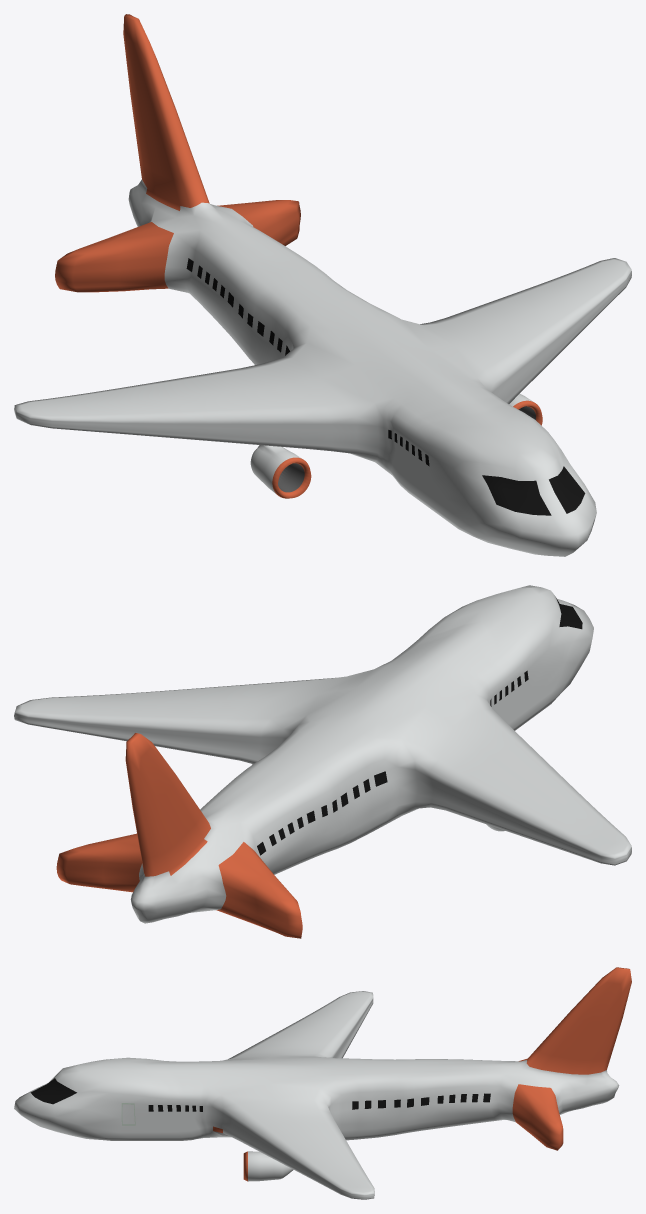
The picture shows the model from 3 angles, top to bottom: view 1: azimuth 30°, elevation 25°; view 2: azimuth 150°, elevation 25°; view 3: azimuth 270°, elevation 25°; orthographic projection. The views are drawn at different scales.
Parts seen in each view (by area): view 1: Plane; view 2: Plane; view 3: Plane.
Boxes of the visible parts, x1,y1,x2,y2 form: Plane: [14, 14, 631, 556]; Plane: [14, 585, 631, 938]; Plane: [14, 967, 631, 1199].
Size of the model in its own units: 174 by 68.9 by 223.
